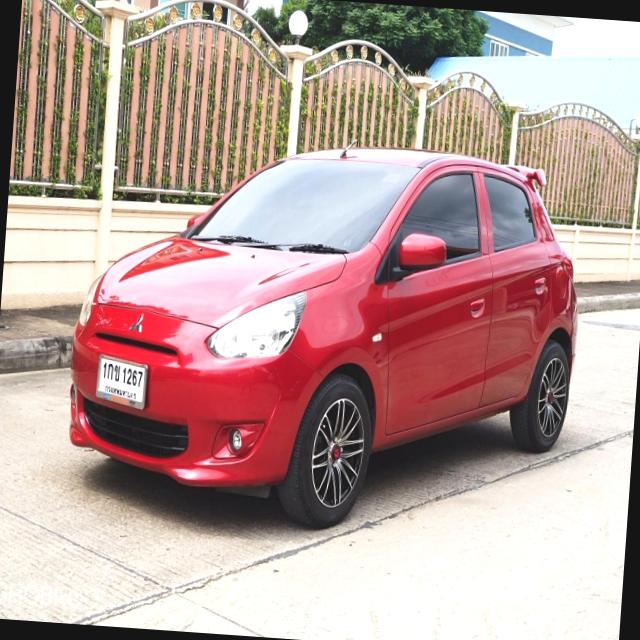license_plate: (92, 351, 150, 410)
